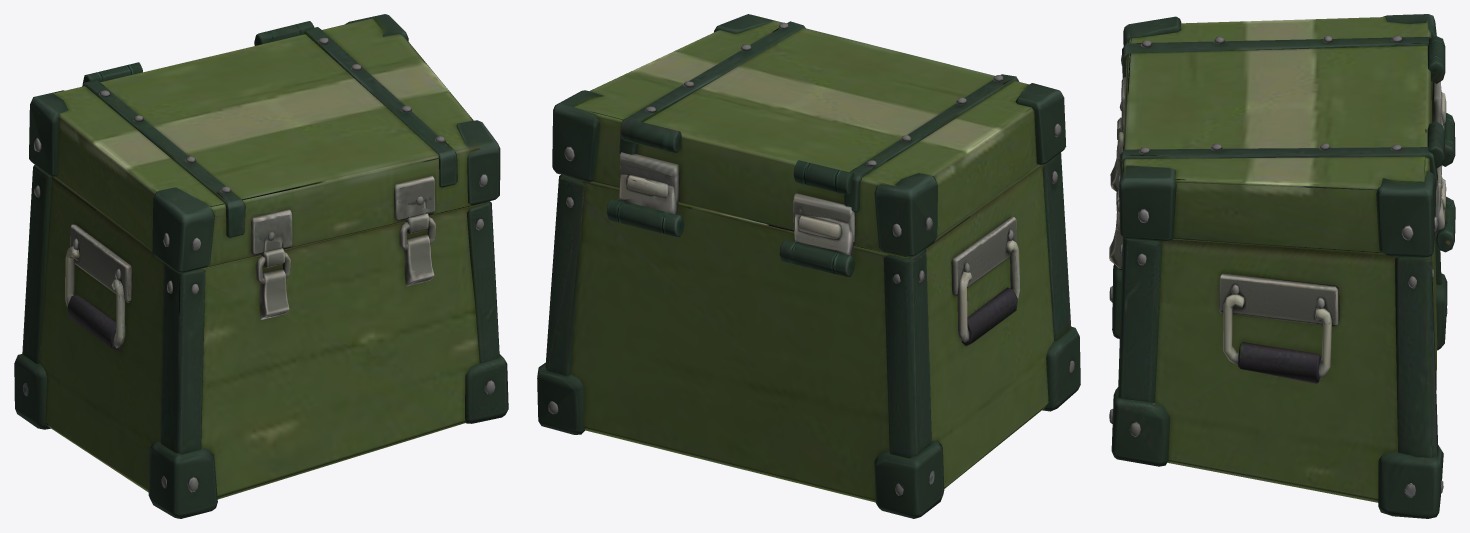
The model's file is tier-2-supply.glb.
3 views of the same model, side by side, from view 1: azimuth 30°, elevation 25°; view 2: azimuth 150°, elevation 25°; view 3: azimuth 270°, elevation 25° (orthographic).
Visible parts, largest first — view 1: tier-2-supply; view 2: tier-2-supply; view 3: tier-2-supply.
Part boxes in pixels (x1,y1,x2,y2): tier-2-supply: (14,14,508,518); tier-2-supply: (537,14,1080,518); tier-2-supply: (1109,14,1455,518).
Bounding box in the file's own units: 1.1 × 0.9 × 0.85.
Materials: 1 (1 with a texture image).
